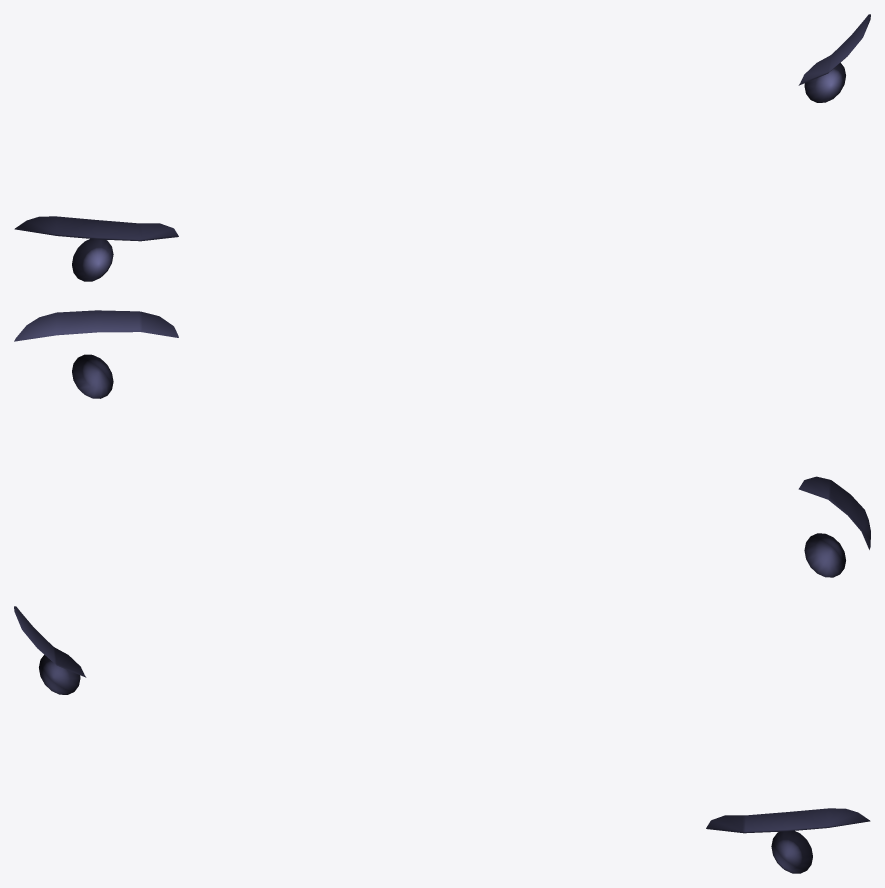
File: Mustang16_FB_01_Detail.fbx
3 views of the same model, one above another, from view 1: azimuth 30°, elevation 25°; view 2: azimuth 150°, elevation 25°; view 3: azimuth 330°, elevation 25° (orthographic).
Parts seen in each view (by area): view 1: Mustang16_FB_01_Detail; view 2: Mustang16_FB_01_Detail; view 3: Mustang16_FB_01_Detail.
Part boxes in pixels (bbox=[...]): Mustang16_FB_01_Detail: bbox=[14, 14, 870, 281]; Mustang16_FB_01_Detail: bbox=[14, 310, 870, 577]; Mustang16_FB_01_Detail: bbox=[14, 606, 870, 873].
Bounding box in the file's own units: 159 × 13.41 × 15.26.
